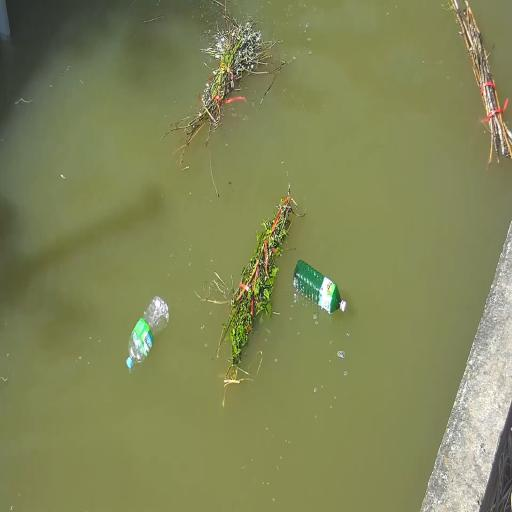plastic: (120, 288, 170, 374), (294, 255, 346, 317)
twig: (210, 185, 294, 383), (180, 12, 263, 152), (444, 0, 512, 159)
